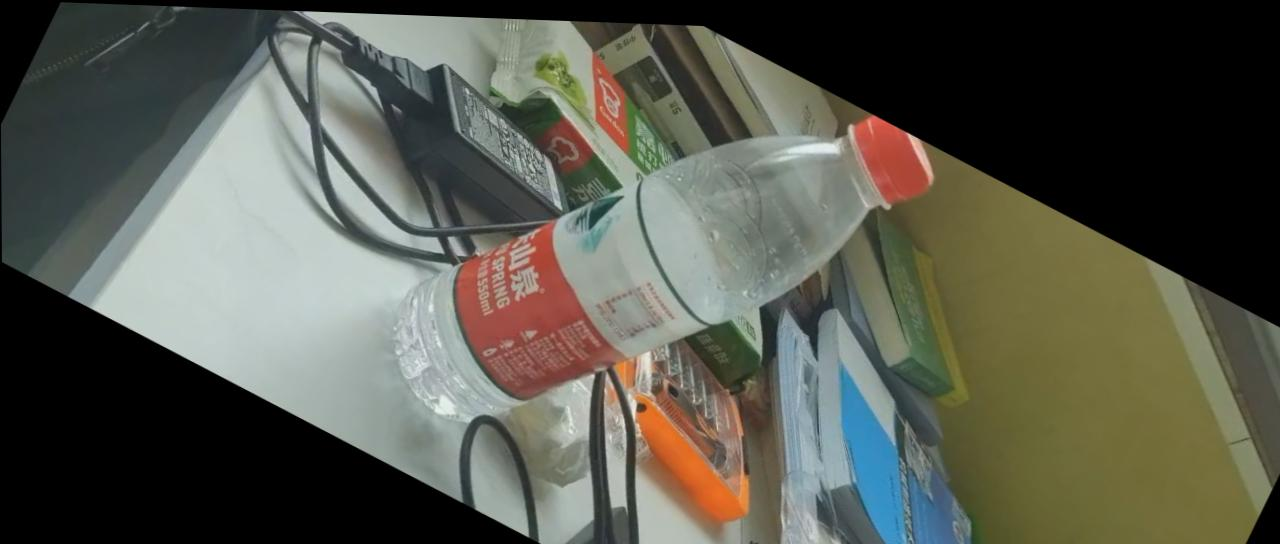plastic: (317, 22, 970, 543)
